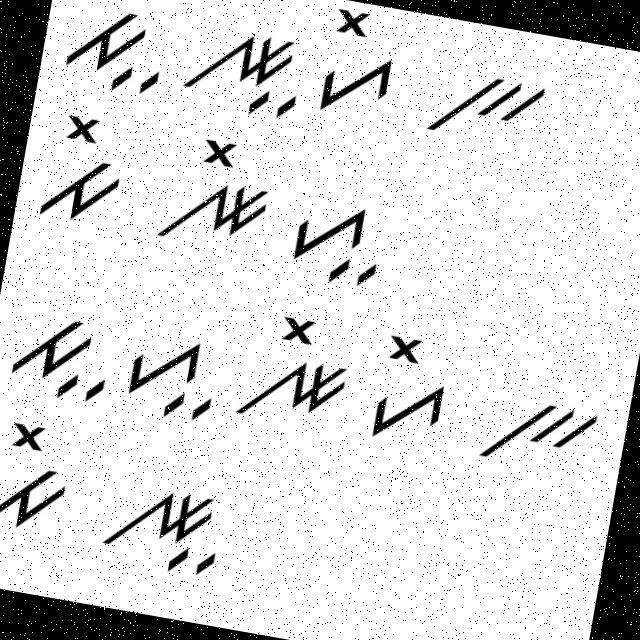hah: (111, 316, 228, 432), (277, 190, 397, 300)
ho: (360, 322, 460, 452), (309, 0, 405, 126)
mbah: (0, 294, 120, 410), (55, 0, 178, 109)
mbo: (27, 103, 136, 234), (0, 415, 82, 541)
ndah: (173, 8, 310, 126), (95, 471, 234, 586)
ndo: (147, 118, 280, 262), (230, 304, 360, 436)
